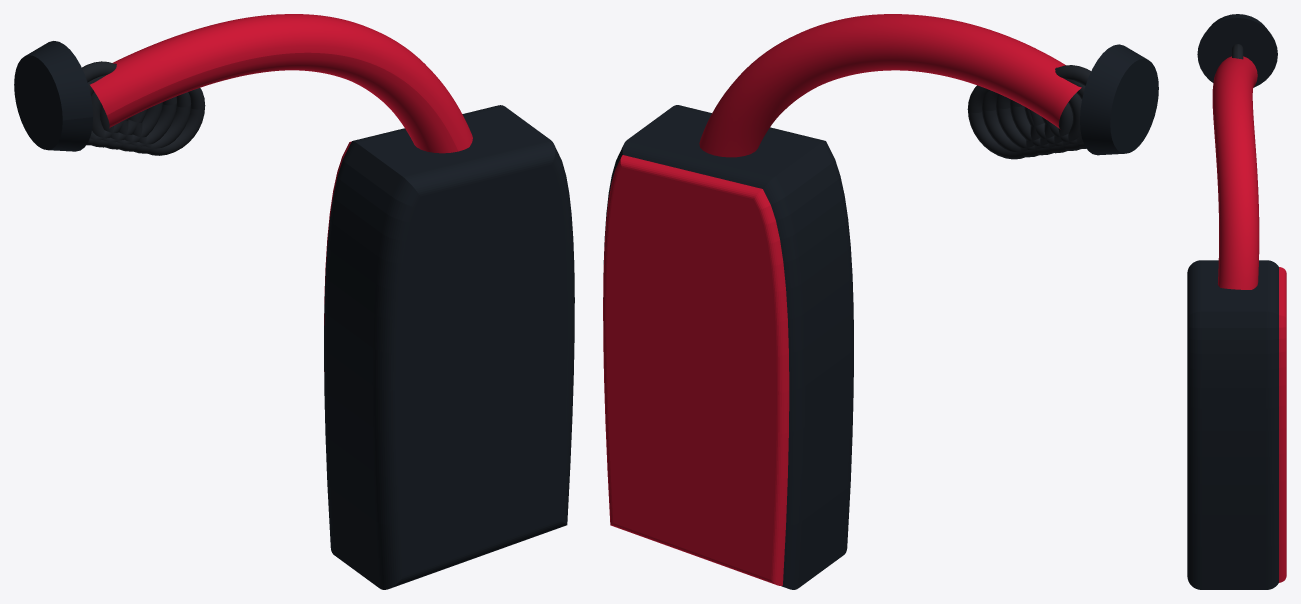
File: espelho_retrovisor_rodoviario.glb
3 renders of one model, left to right at view 1: azimuth 30°, elevation 25°; view 2: azimuth 150°, elevation 25°; view 3: azimuth 270°, elevation 25°, orthographic. The views are drawn at different scales.
Parts seen in each view (by area): view 1: EspelhoRetrovisorRodoviario; view 2: EspelhoRetrovisorRodoviario; view 3: EspelhoRetrovisorRodoviario.
Boxes of the visible parts, left/top/right/bottom form: EspelhoRetrovisorRodoviario: left=14, top=14, right=574, bottom=589; EspelhoRetrovisorRodoviario: left=603, top=14, right=1158, bottom=589; EspelhoRetrovisorRodoviario: left=1187, top=14, right=1286, bottom=589.
Bounding box in the file's own units: 2.89 × 3.25 × 0.69.
